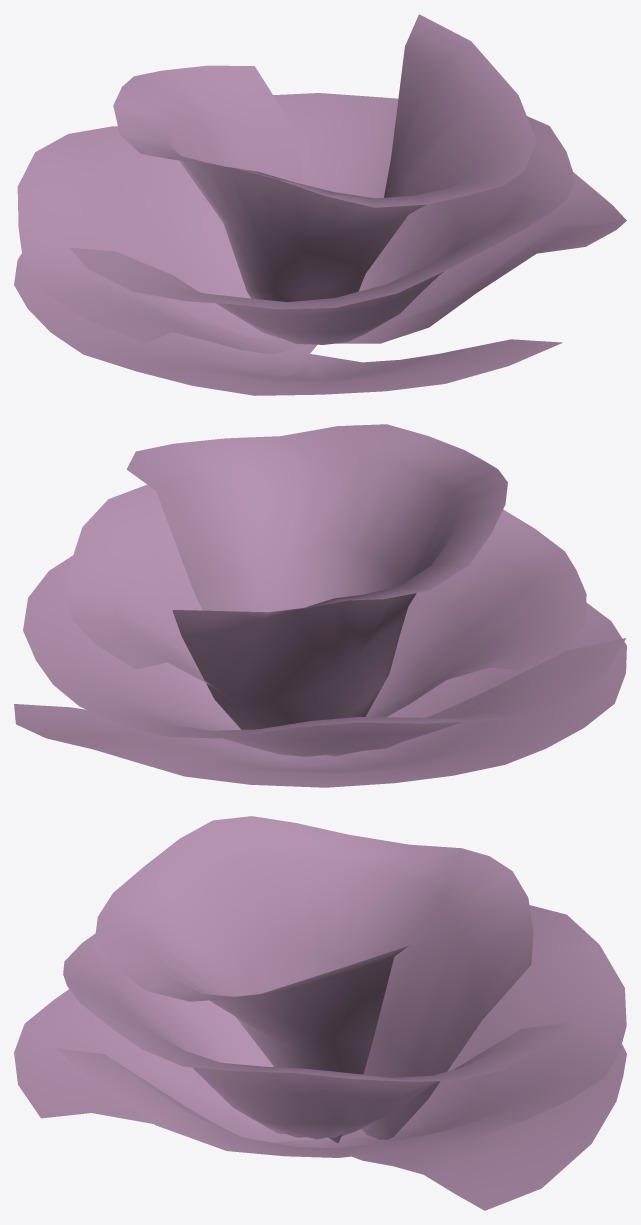
Rendered from coral07.fbx.
3 views of the same model, one above another, from view 1: azimuth 30°, elevation 25°; view 2: azimuth 150°, elevation 25°; view 3: azimuth 270°, elevation 25° (orthographic). The views are drawn at different scales.
Parts seen in each view (by area): view 1: coral28; view 2: coral28; view 3: coral28.
Part boxes in pixels (x1,y1,x2,y2): coral28: (14,14,626,395); coral28: (14,424,626,787); coral28: (14,816,626,1210).
Bounding box in the file's own units: 214 × 106 × 213.
